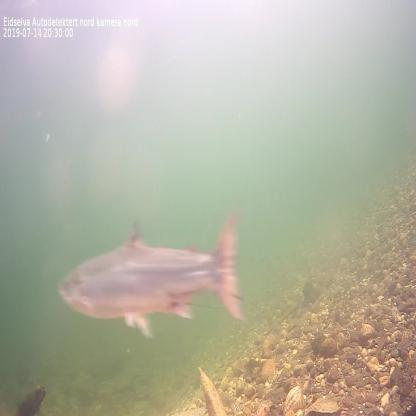salmon: (54, 208, 250, 341)
